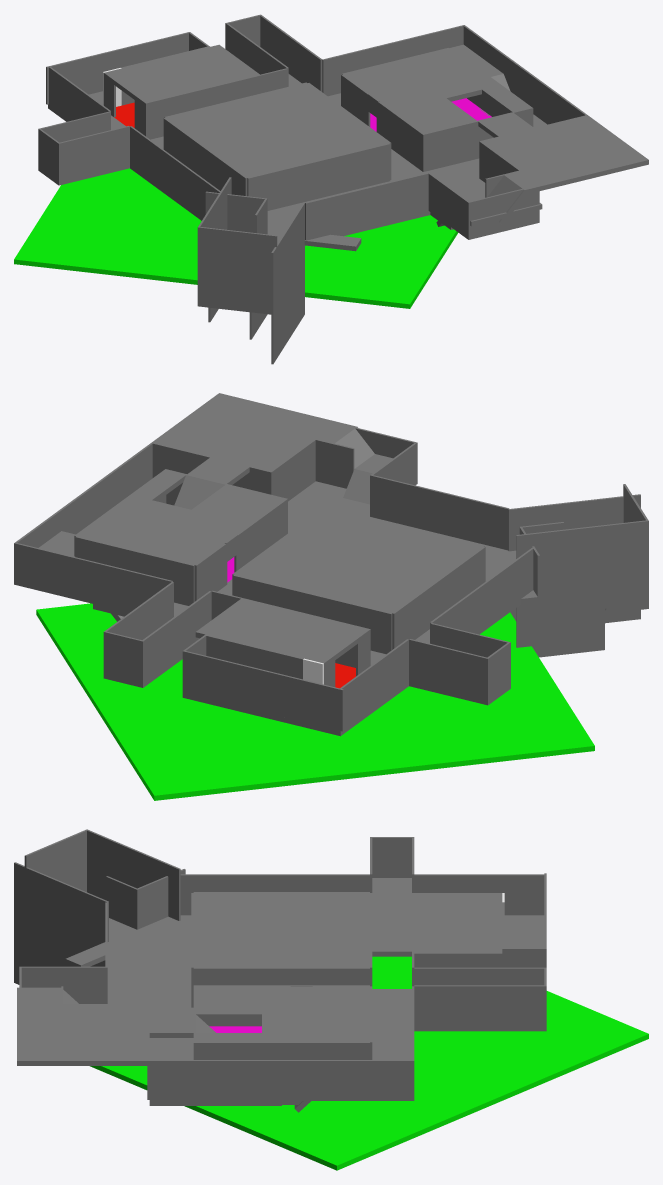
File: Blockout_Unity.fbx
3 renders of one model, top to bottom at view 1: azimuth 30°, elevation 25°; view 2: azimuth 150°, elevation 25°; view 3: azimuth 270°, elevation 25°, orthographic. The views are drawn at different scales.
Visible parts, largest first — view 1: Floor__340_, Floor__204_, Floor__203_, Wall__208_, Wall__207_, Wall__204_, Wall__203_, Wall__209_, Floor__119_, Wall__143_, Wall__205_, Wall__5_ (+29 smaller); view 2: Floor__340_, Floor__204_, Floor__203_, Wall__215_, Wall__216_, Wall__219_, Wall__149_, Wall__220_, Wall__212_, Wall__13_, Wall__218_, Wall__222_ (+43 smaller); view 3: Floor__340_, Floor__204_, Floor__203_, Floor__119_, Wall__158_, Wall__157_, Wall__159_, Wall__160_, Wall__161_, Wall__162_, Wall__53_, Wall__54_ (+39 smaller).
Part boxes in pixels (box(x1,y1,x2,y2)): Floor__340_: box(14, 168, 458, 308); Floor__204_: box(165, 83, 388, 177); Floor__203_: box(104, 44, 259, 107); Wall__208_: box(217, 229, 237, 268); Wall__207_: box(197, 226, 217, 266); Wall__204_: box(217, 267, 237, 305); Wall__203_: box(197, 264, 217, 303); Wall__209_: box(237, 231, 257, 271); Floor__119_: box(267, 228, 361, 251); Wall__143_: box(57, 139, 76, 180); Wall__205_: box(237, 269, 256, 308); Wall__5_: box(322, 55, 341, 96); Floor__340_: box(36, 603, 594, 800); Floor__204_: box(234, 508, 483, 613); Floor__203_: box(195, 598, 369, 667); Wall__215_: box(560, 527, 582, 572); Wall__216_: box(582, 525, 604, 569); Wall__219_: box(604, 522, 626, 567); Wall__149_: box(468, 653, 489, 699); Wall__220_: box(627, 520, 648, 564); Wall__212_: box(538, 530, 560, 574); Wall__13_: box(371, 608, 392, 654); Wall__218_: box(583, 567, 604, 611); Wall__222_: box(627, 562, 648, 606); Floor__340_: box(90, 956, 648, 1170); Floor__204_: box(193, 893, 369, 967); Floor__203_: box(414, 893, 502, 958); Floor__119_: box(65, 915, 191, 966); Wall__158_: box(502, 985, 524, 1026); Wall__157_: box(524, 985, 546, 1026); Wall__159_: box(436, 985, 458, 1026); Wall__160_: box(480, 985, 502, 1026); Wall__161_: box(458, 985, 480, 1026); Wall__162_: box(414, 985, 436, 1026); Wall__53_: box(171, 1060, 193, 1100); Wall__54_: box(149, 1060, 171, 1100).
Bounding box in the file's own units: 5657 × 1367 × 5757.
